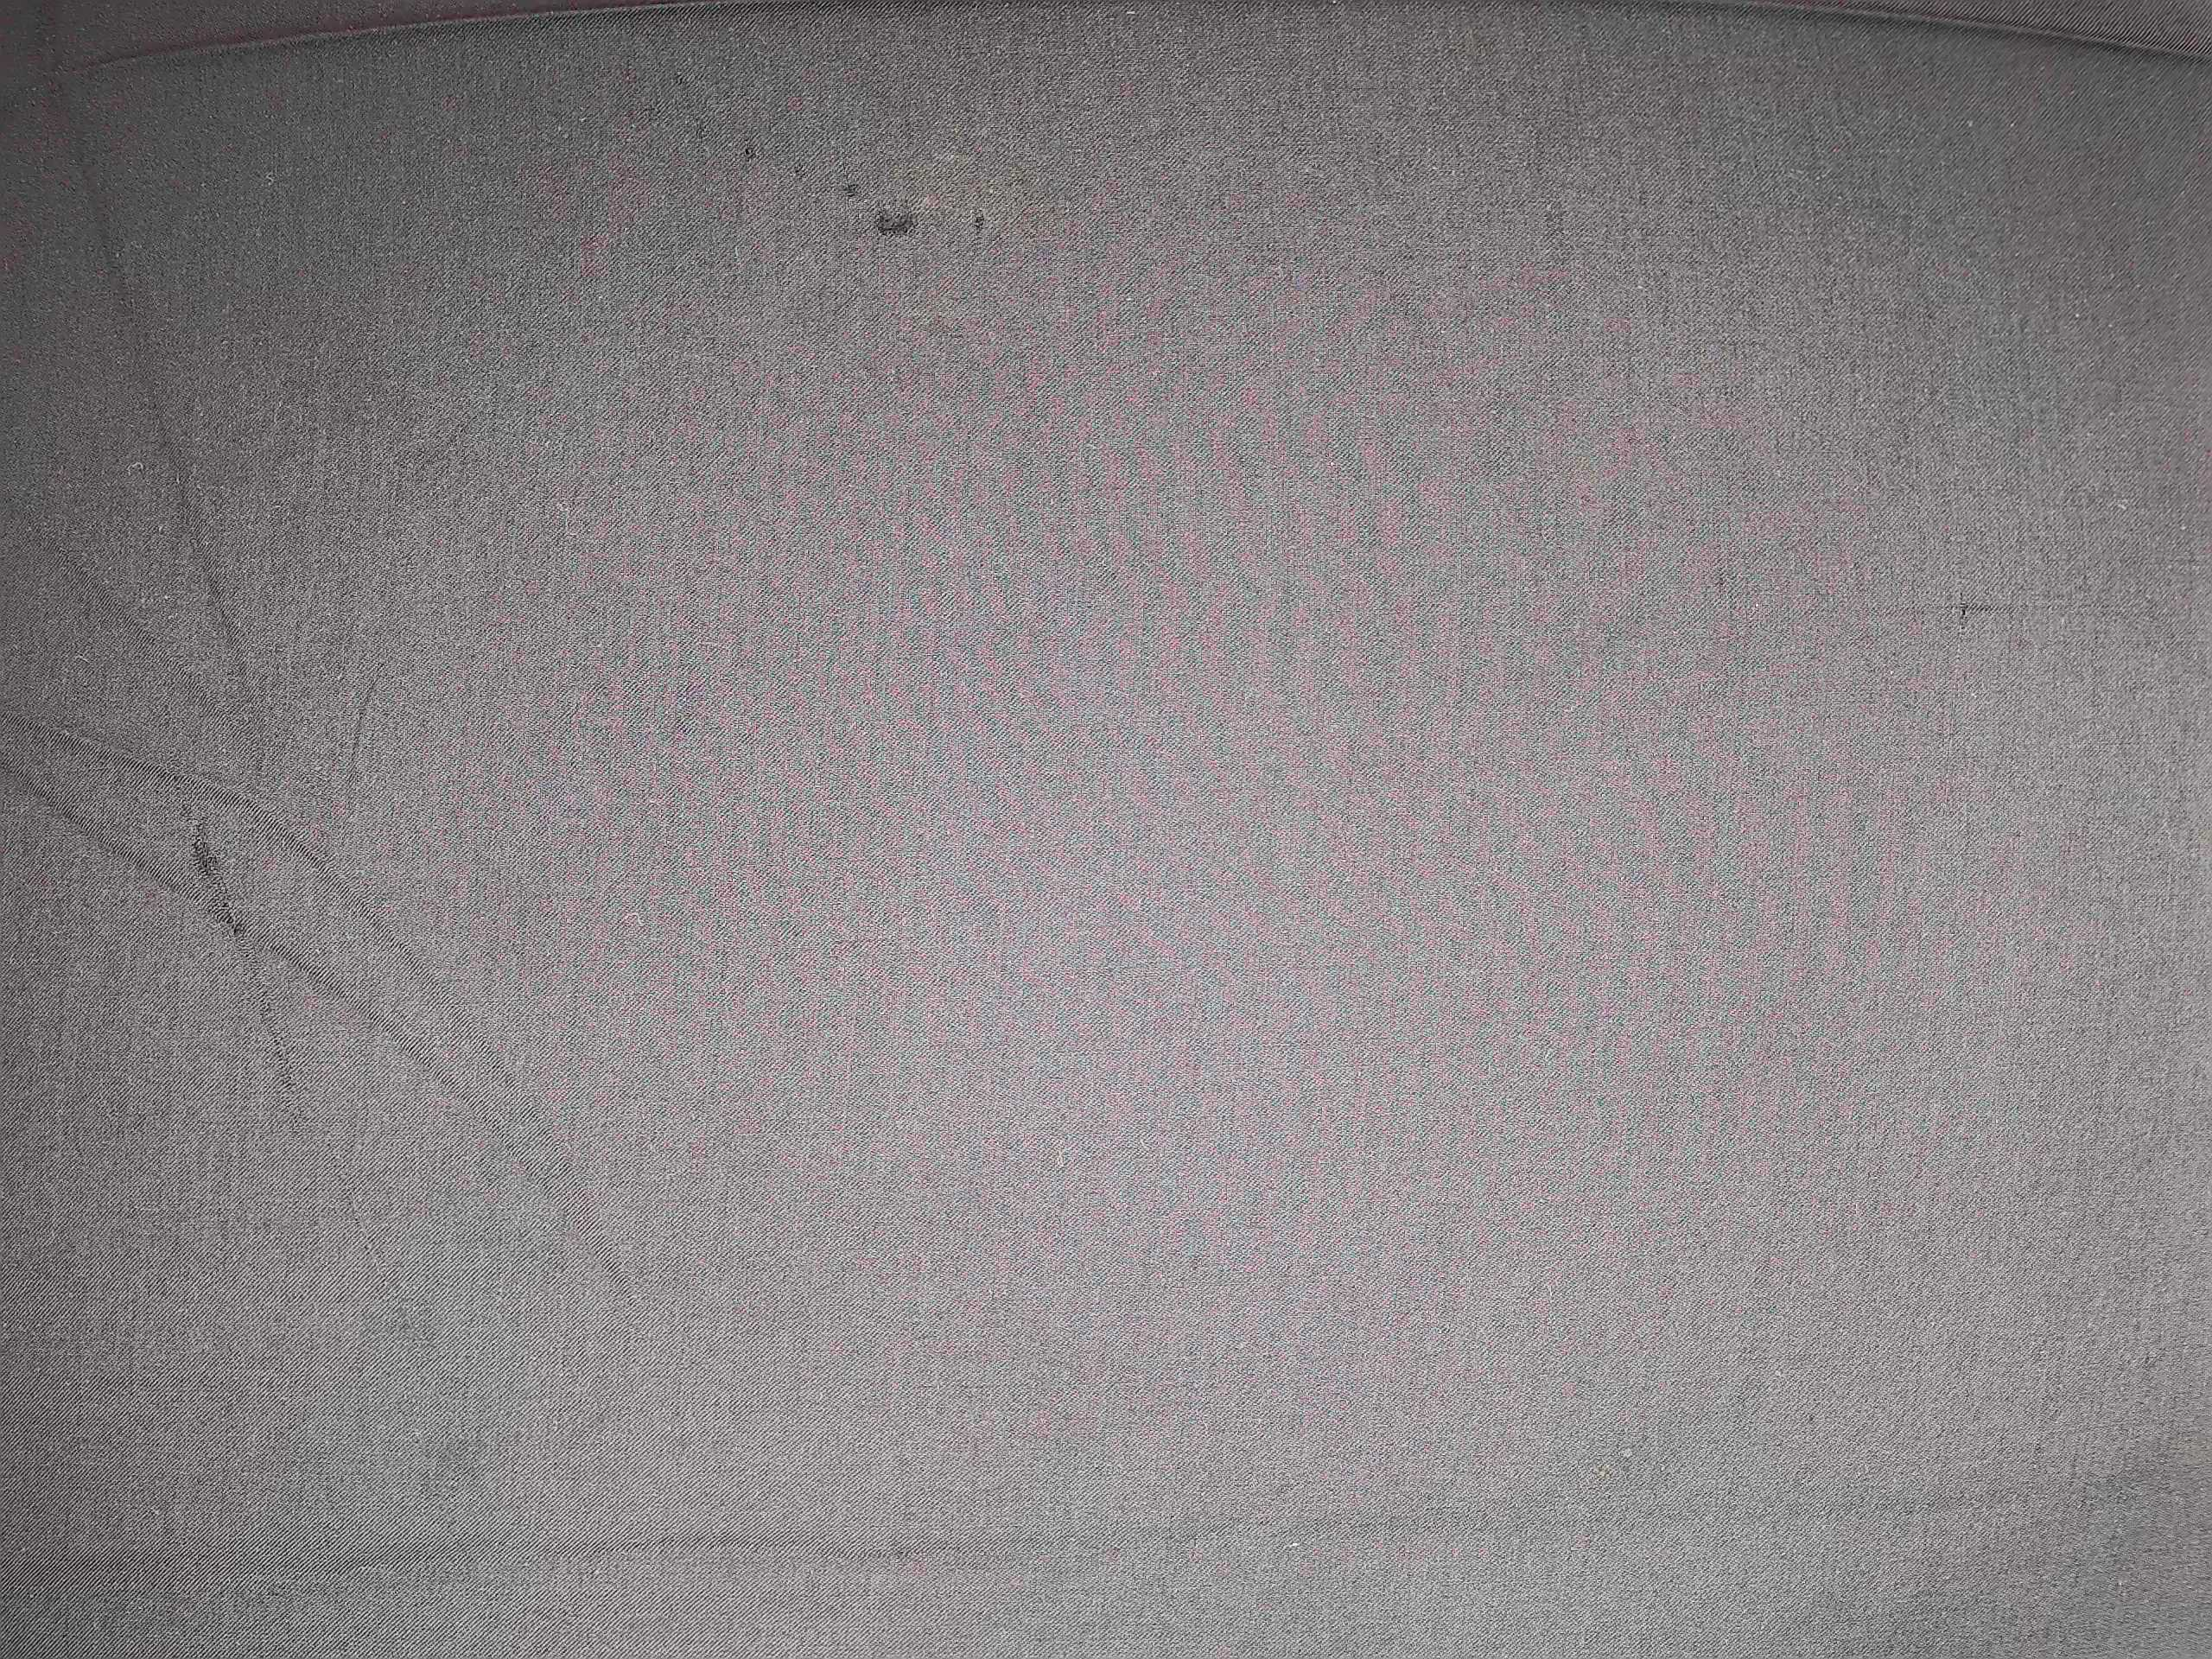rubbing-hole: (676, 110, 1007, 261), (178, 805, 319, 1126)
